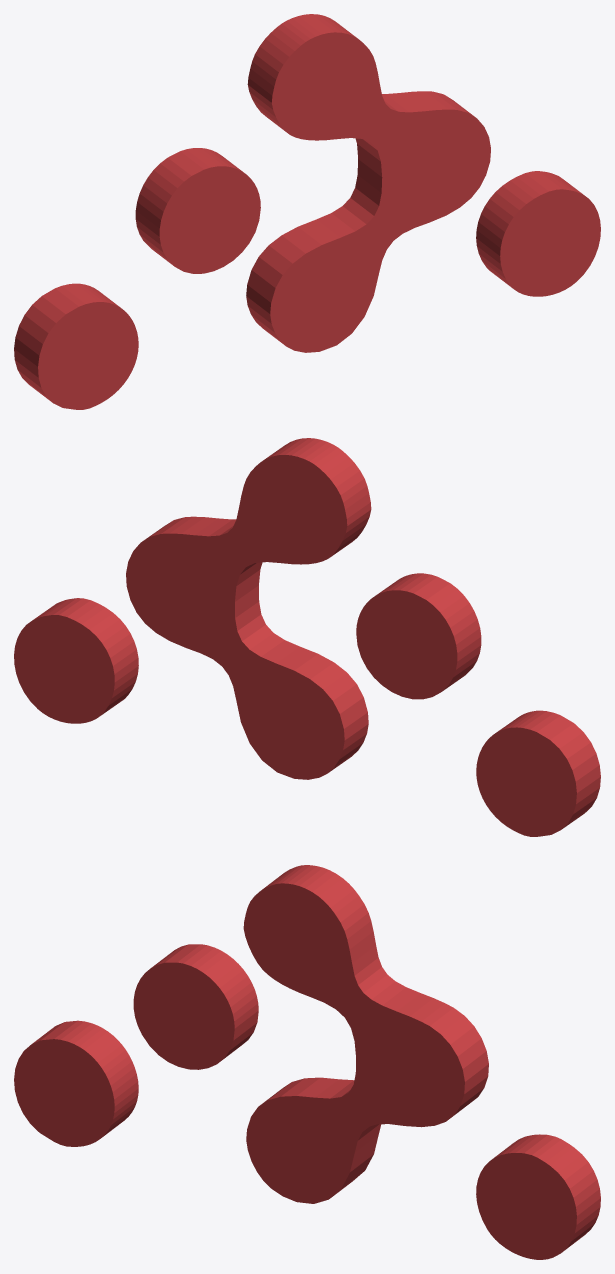
The model's file is Reactrouter_model.glb.
The picture shows the model from 3 angles, top to bottom: view 1: azimuth 30°, elevation 25°; view 2: azimuth 150°, elevation 25°; view 3: azimuth 330°, elevation 25°; orthographic projection.
Visible parts, largest first — view 1: Curve; view 2: Curve; view 3: Curve.
Part boxes in pixels (x1,y1,x2,y2): Curve: (14, 14, 600, 409); Curve: (14, 438, 600, 836); Curve: (14, 865, 600, 1259).
Size of the model in its own units: 0.6773 by 0.3693 by 0.0566.
